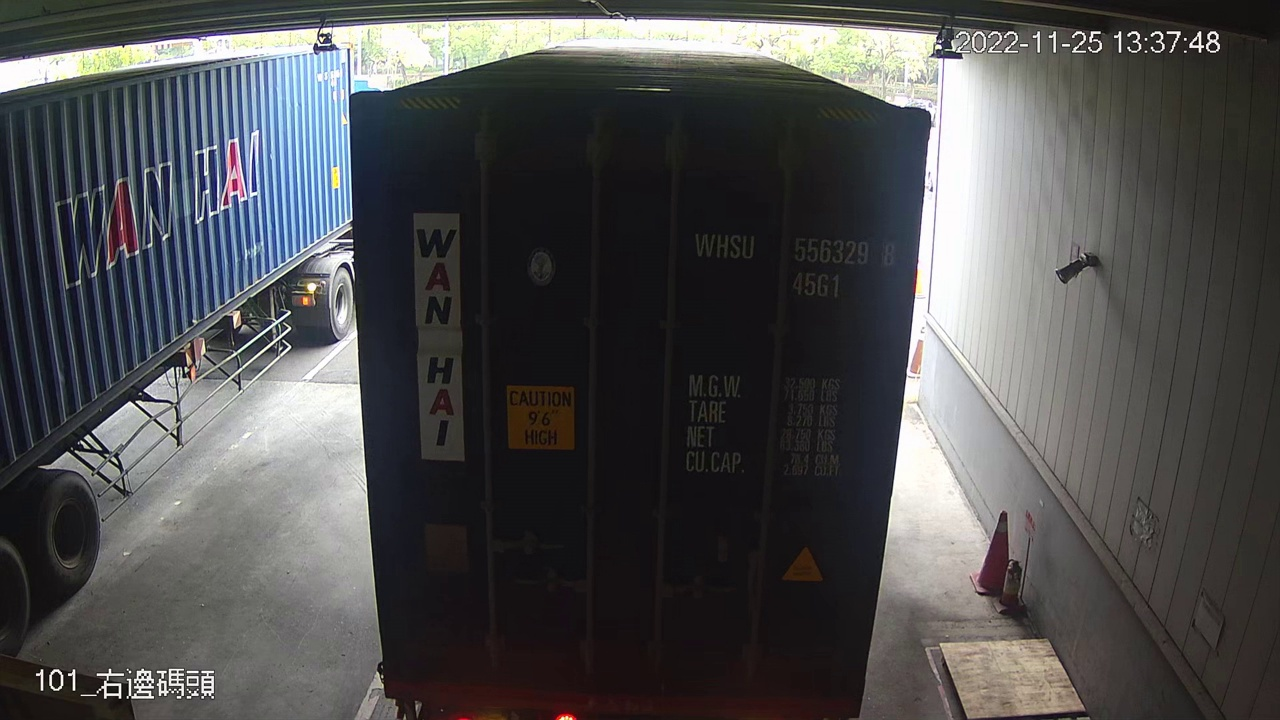container: (687, 222, 905, 307)
